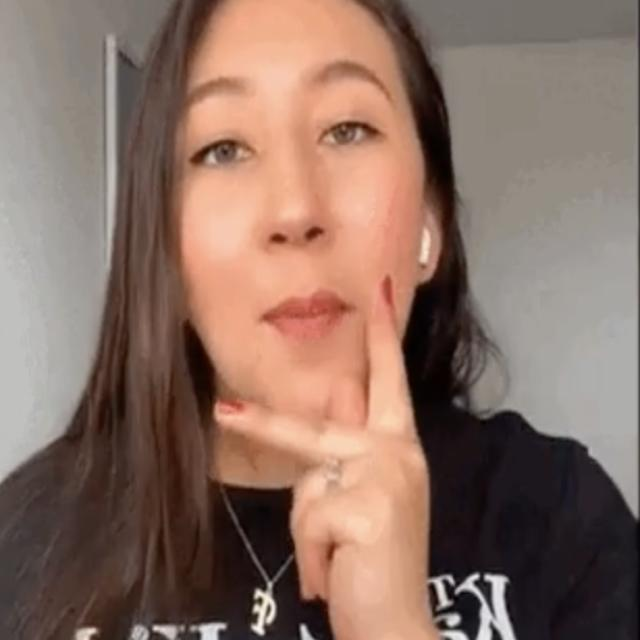PAPA: (209, 270, 456, 612)
